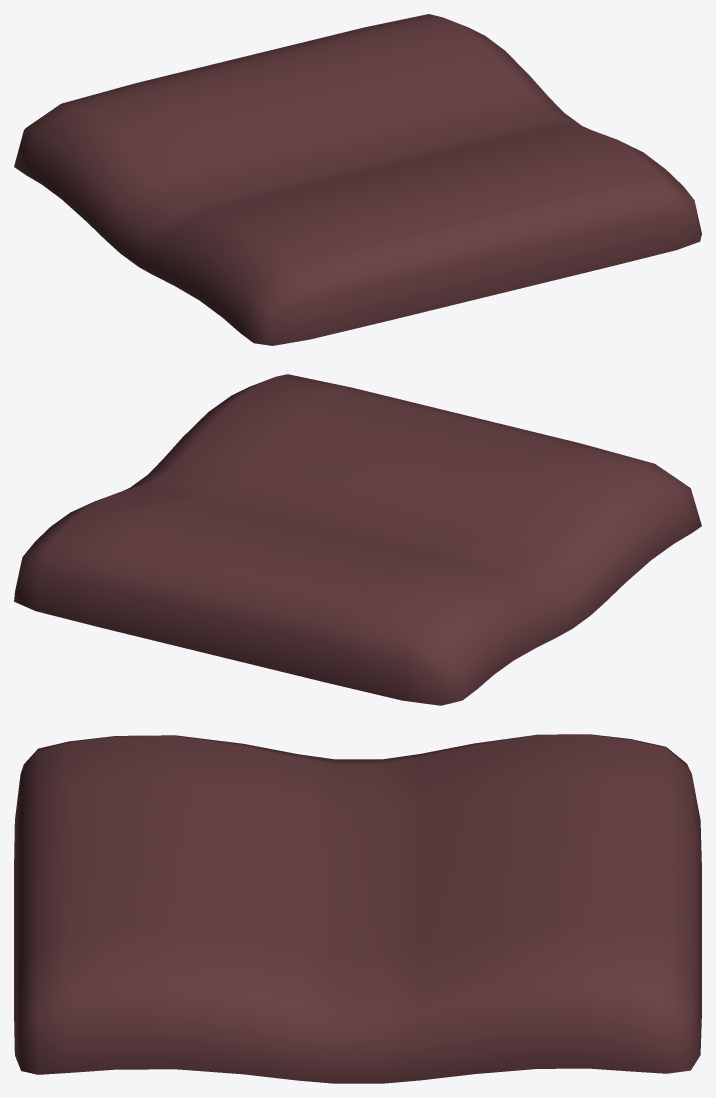
File: Dirt.fbx
3 views of the same model, one above another, from view 1: azimuth 30°, elevation 25°; view 2: azimuth 150°, elevation 25°; view 3: azimuth 270°, elevation 25° (orthographic). The views are drawn at different scales.
Parts seen in each view (by area): view 1: Dirt; view 2: Dirt; view 3: Dirt.
Part boxes in pixels (bbox=[...]): Dirt: bbox=[14, 14, 701, 345]; Dirt: bbox=[14, 374, 701, 705]; Dirt: bbox=[14, 734, 701, 1083].
Size of the model in its own units: 186 by 28.46 by 187.
